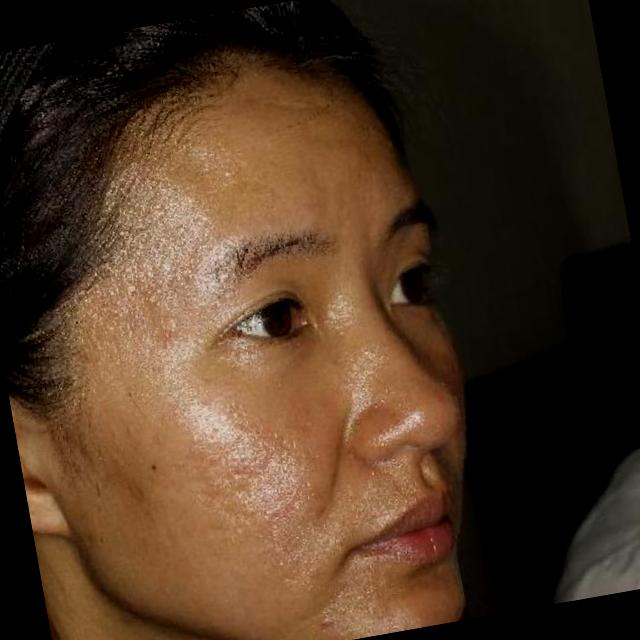blackhead: (137, 452, 170, 482)
nodules: (311, 606, 344, 638)
